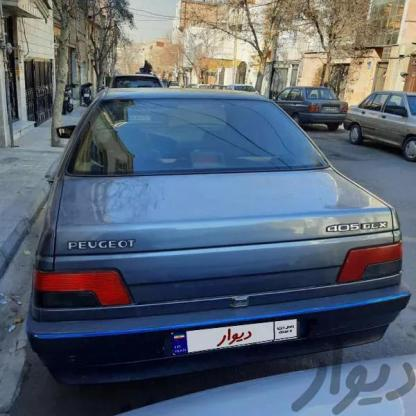Car: (0, 84, 416, 364), (337, 82, 416, 170), (276, 75, 345, 130), (107, 67, 168, 97)
